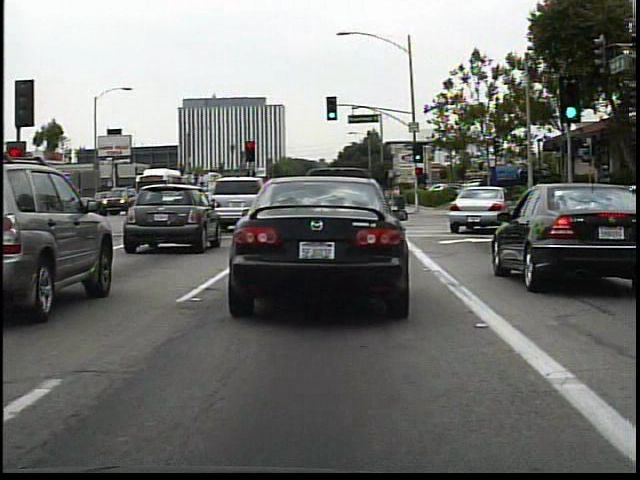person: (387, 178, 409, 214)
